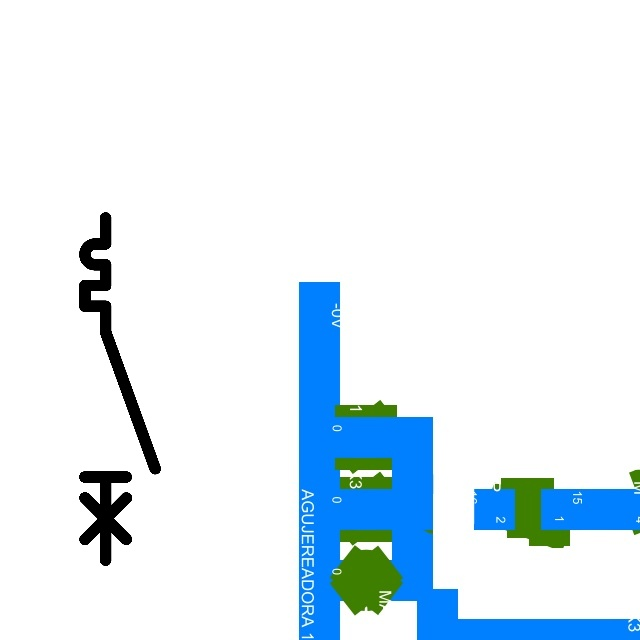interruptor_termomagnetico: (76, 209, 164, 569)
